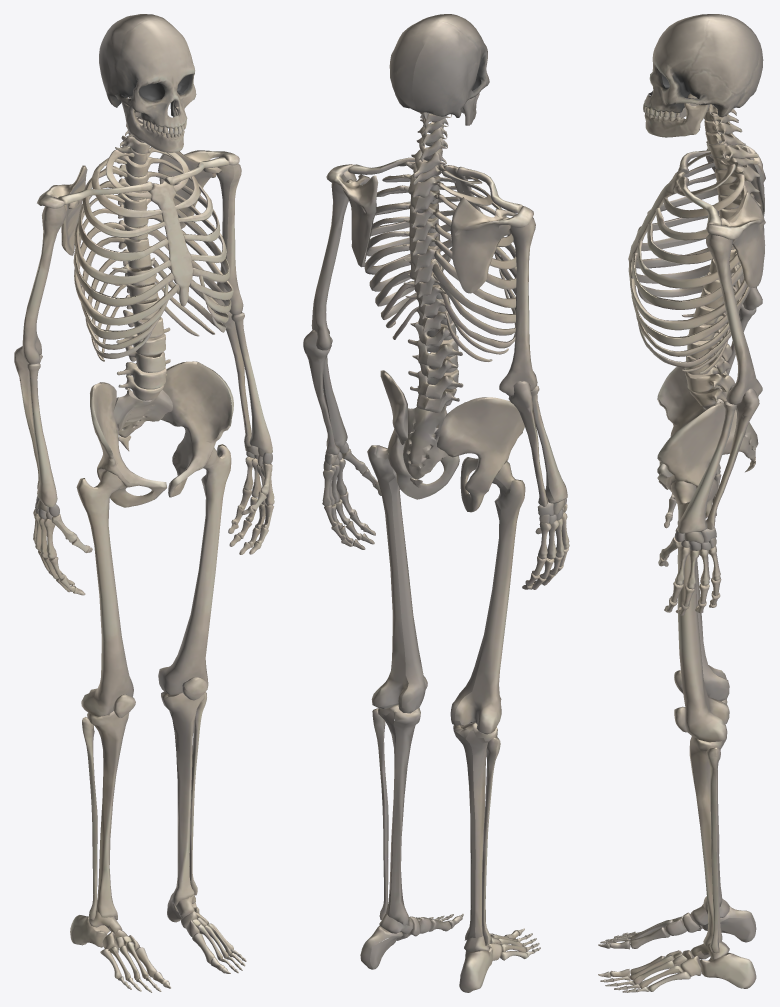
The model's file is skeleton.glb.
The picture shows the model from 3 angles, left to right: view 1: azimuth 30°, elevation 25°; view 2: azimuth 150°, elevation 25°; view 3: azimuth 270°, elevation 25°; orthographic projection. The views are drawn at different scales.
Visible parts, largest first — view 1: Human_Bones; view 2: Human_Bones; view 3: Human_Bones.
Part boxes in pixels (x1,y1,x2,y2): Human_Bones: [14, 14, 274, 992]; Human_Bones: [303, 14, 569, 992]; Human_Bones: [598, 14, 765, 992].
Size of the model in its own units: 6.79 by 26.15 by 4.2.
1 material, 1 textured.
